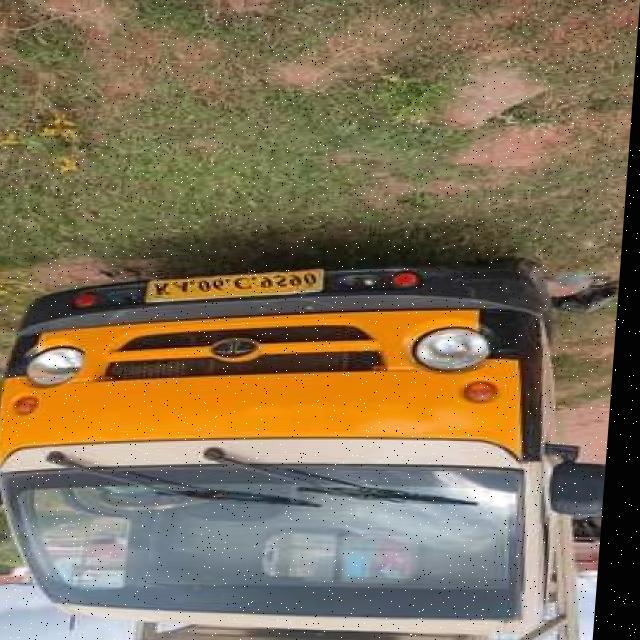plate: (144, 265, 333, 305)
